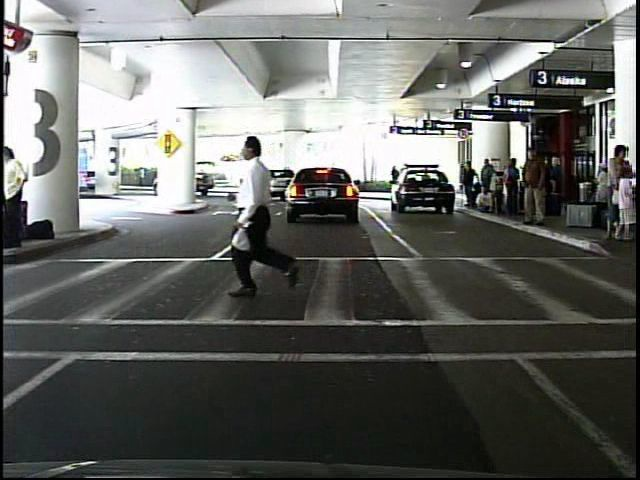person: (228, 130, 301, 307), (518, 143, 551, 229), (460, 161, 479, 210), (136, 163, 147, 189)
